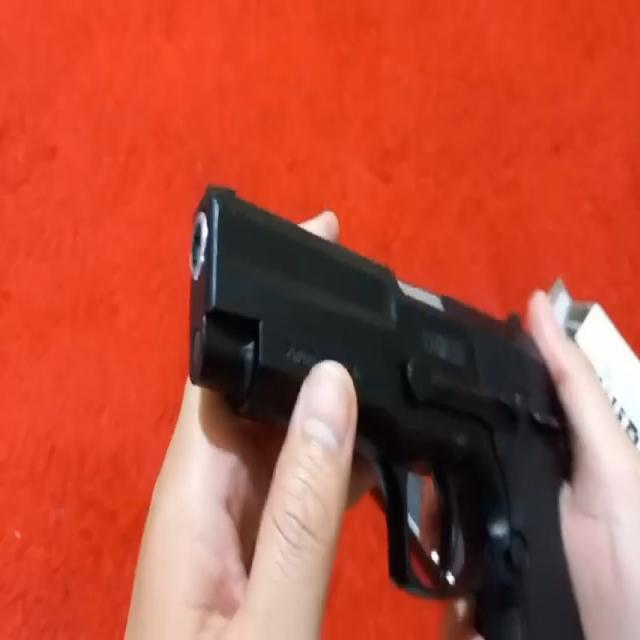handgun: (184, 169, 585, 635)
